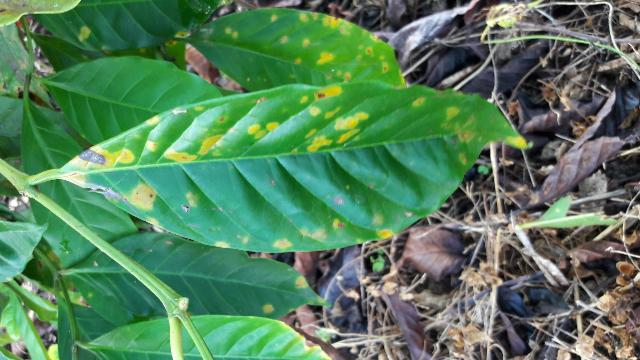rust_level_4: (64, 80, 528, 254)
